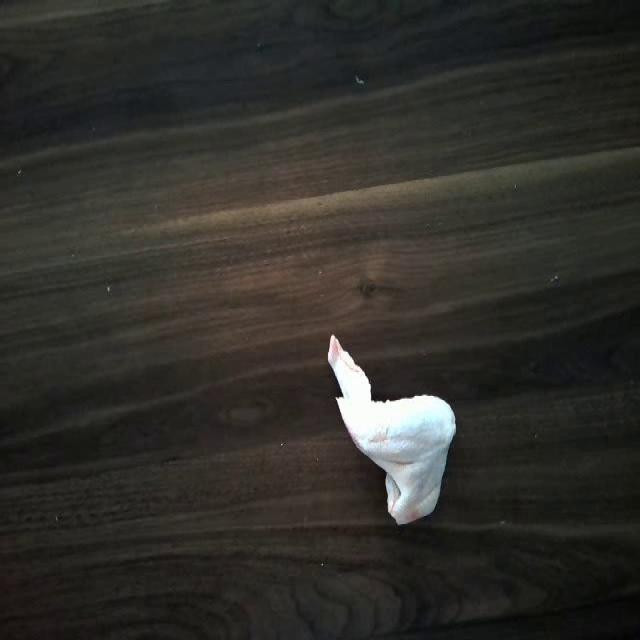wing: (323, 336, 458, 529)
